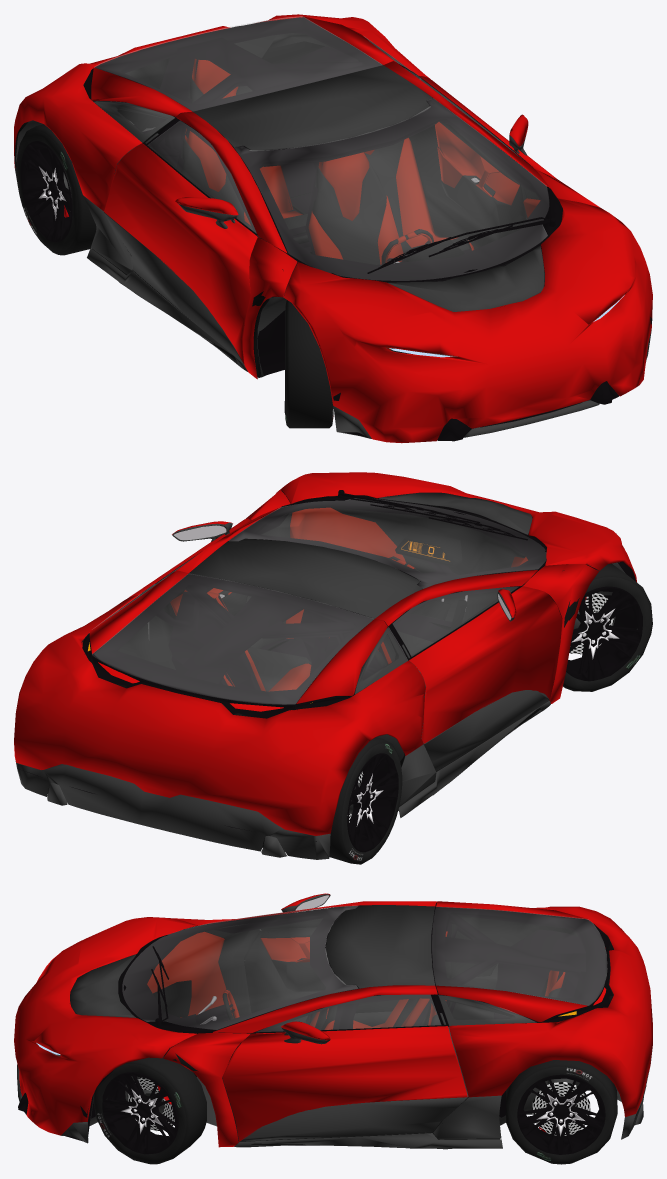
The model's file is car-concept-lod3.glb.
The picture shows the model from 3 angles, top to bottom: view 1: azimuth 30°, elevation 25°; view 2: azimuth 150°, elevation 25°; view 3: azimuth 270°, elevation 25°; orthographic projection. The views are drawn at different scales.
Visible parts, largest first — view 1: BodyHood, BodyWindshield, BodyRearwindow, BodyDoorRColor1, BodyRearPanelsColor1, BodyRoofPanel, BodyWindshieldGasket, InteriorSeatsColor1, InteriorSeatsColor2, BodyPillars, InteriorPillar, InteriorRearHatch (+22 smaller); view 2: BodyRearPanelsColor1, BodyRearwindow, BodyWindshield, BodyPanelsColor2, BodyDoorRColor1, BodyRoofPanel, BodyHood, InteriorPillar, InteriorRearHatch, BodyPillars, BodyWindshieldGasket, InteriorDashMid (+21 smaller); view 3: BodyRearPanelsColor1, BodyWindshield, BodyDoorLColor1, BodyHood, BodyRearwindow, BodyRoofPanel, BodyPillars, BodyWindshieldGasket, BodyDoorLColor2, BodyPanelsColor2, InteriorRearHatch, WheelFrontL (+26 smaller).
Part boxes in pixels (x1,y1,x2,y2): BodyHood: (283,198,652,443); BodyWindshield: (234,98,548,280); BodyRearwindow: (94,16,381,111); BodyDoorRColor1: (104,143,257,363); BodyRearPanelsColor1: (14,14,429,211); BodyRoofPanel: (193,65,432,150); BodyWindshieldGasket: (234,99,562,282); InteriorSeatsColor1: (185,58,474,264); InteriorSeatsColor2: (181,77,471,264); BodyPillars: (176,61,599,379); InteriorPillar: (159,37,434,170); InteriorRearHatch: (93,17,382,118); BodyRearPanelsColor1: (14,570,425,835); BodyRearwindow: (92,574,373,704); BodyWindshield: (229,498,546,588); BodyPanelsColor2: (15,701,550,859); BodyDoorRColor1: (409,586,562,743); BodyRoofPanel: (189,538,422,618); BodyHood: (277,472,636,582); InteriorPillar: (174,575,417,684); InteriorRearHatch: (93,574,373,709); BodyPillars: (173,490,598,703); BodyWindshieldGasket: (229,497,546,588); InteriorDashMid: (331,504,525,623); BodyRearPanelsColor1: (436,901,652,1116); BodyWindshield: (122,906,357,1029); BodyDoorLColor1: (222,1026,467,1141); BodyHood: (14,917,196,1135); BodyRearwindow: (432,907,607,1005); BodyRoofPanel: (326,905,434,988); BodyPillars: (163,901,437,1147); BodyWindshieldGasket: (118,906,357,1033); BodyDoorLColor2: (240,1097,467,1141); BodyPanelsColor2: (17,1045,652,1149); InteriorRearHatch: (432,907,606,1022); WheelFrontL: (93,1056,206,1164).
Bounding box in the file's own units: 2.68 × 1.21 × 4.6.
23 materials, 6 textured.
